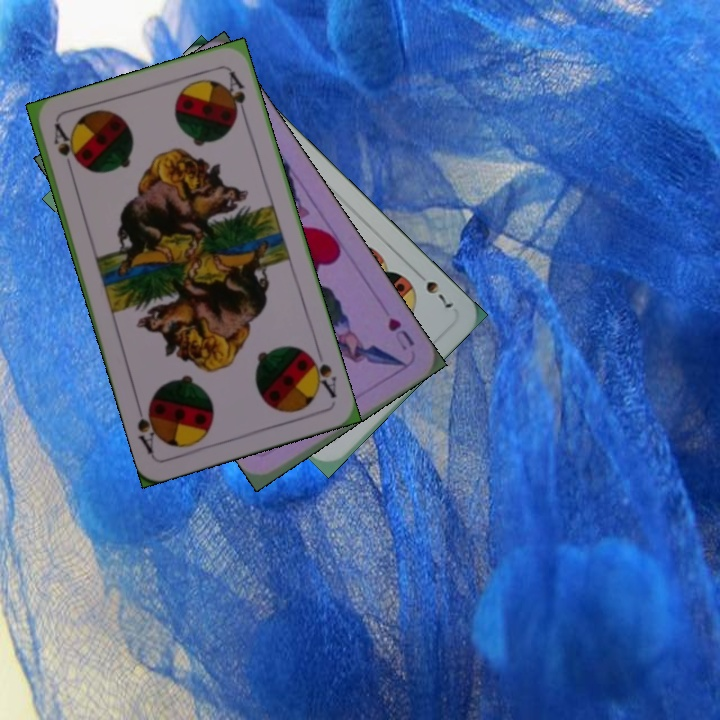HU: (383, 313, 417, 353)
S7: (421, 276, 456, 311)
SA: (303, 348, 339, 401), (49, 121, 79, 179)
